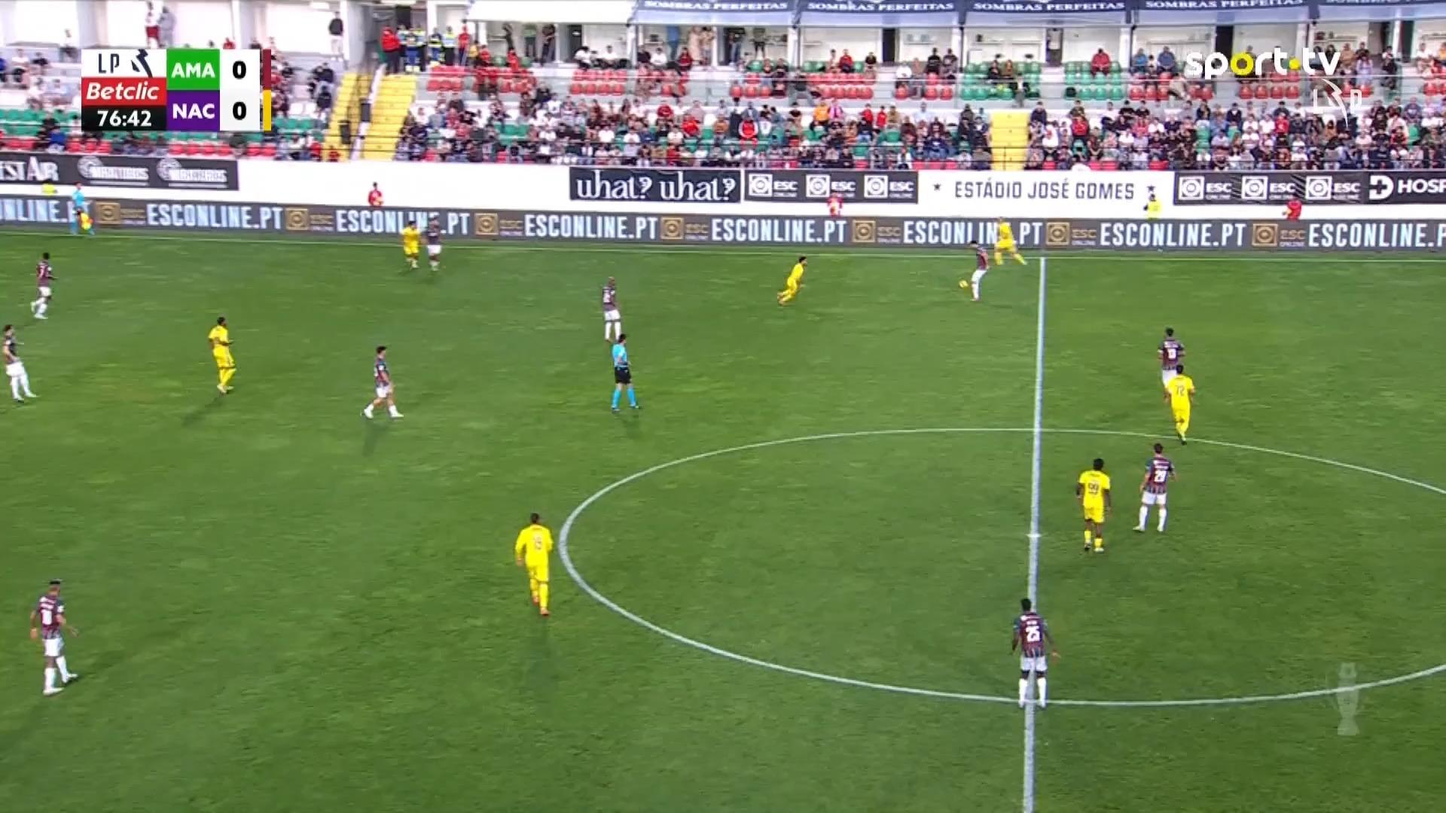ball: (958, 279, 968, 288)
player: (29, 577, 80, 696), (1009, 597, 1060, 709), (513, 511, 554, 617), (1131, 441, 1176, 532), (1075, 457, 1112, 553), (361, 344, 404, 419), (1, 323, 38, 402), (1162, 363, 1195, 445), (206, 315, 236, 394), (1157, 326, 1185, 400), (29, 251, 56, 319), (992, 216, 1027, 266), (962, 238, 989, 301), (776, 254, 807, 307), (600, 276, 622, 343), (423, 215, 443, 272), (400, 218, 420, 269)
referee: (609, 332, 640, 413), (69, 181, 95, 236)
